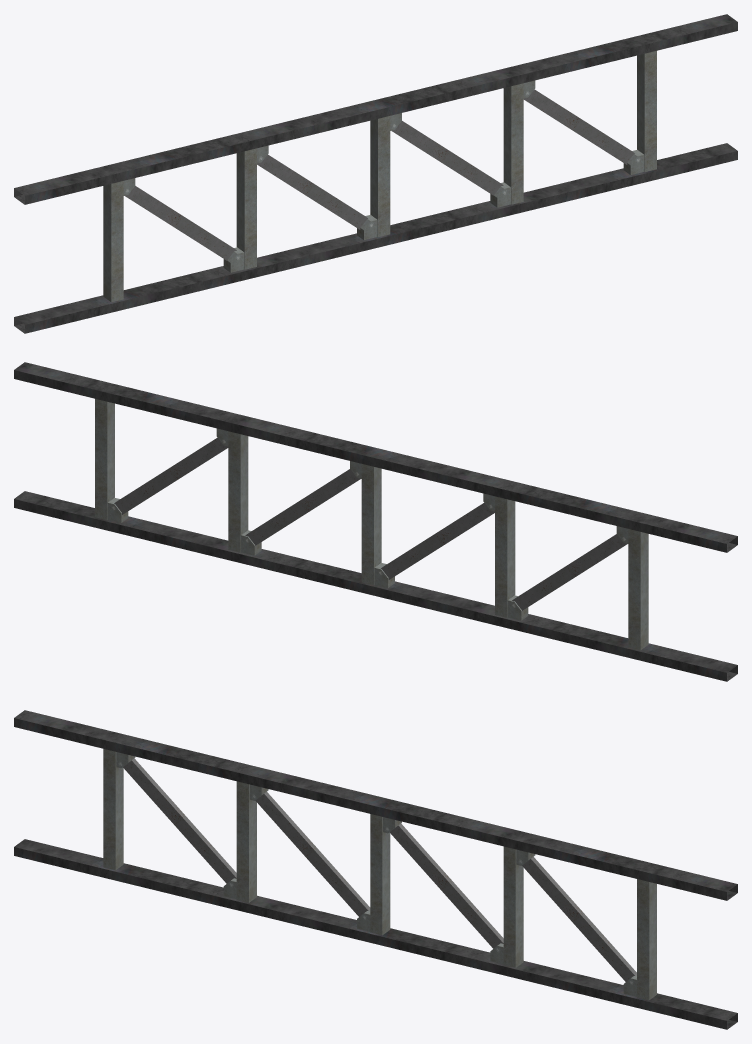
The model's file is Ob_ScafHoriz2_RC.fbx.
3 views of the same model, one above another, from view 1: azimuth 30°, elevation 25°; view 2: azimuth 150°, elevation 25°; view 3: azimuth 330°, elevation 25° (orthographic).
Visible parts, largest first — view 1: Ob_ScafHoriz2_RC; view 2: Ob_ScafHoriz2_RC; view 3: Ob_ScafHoriz2_RC.
Part boxes in pixels (x1=…): Ob_ScafHoriz2_RC: x1=14, y1=14, x2=737, y2=333; Ob_ScafHoriz2_RC: x1=14, y1=362, x2=737, y2=681; Ob_ScafHoriz2_RC: x1=14, y1=710, x2=737, y2=1029.
Bounding box in the file's own units: 2564 × 473 × 67.51.
